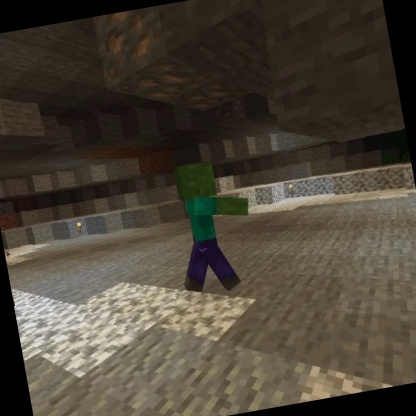zombie: (160, 151, 267, 302)
